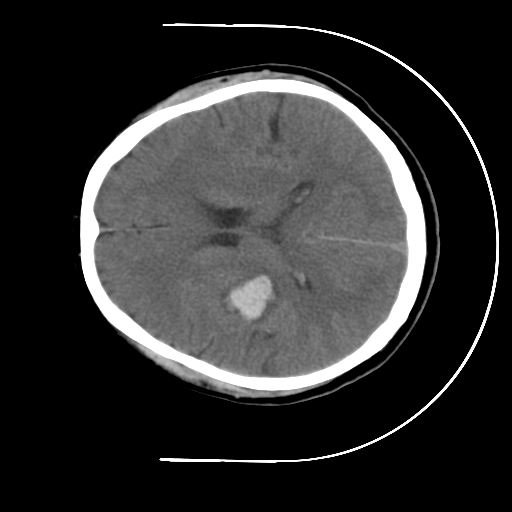a: (217, 260, 288, 333)
